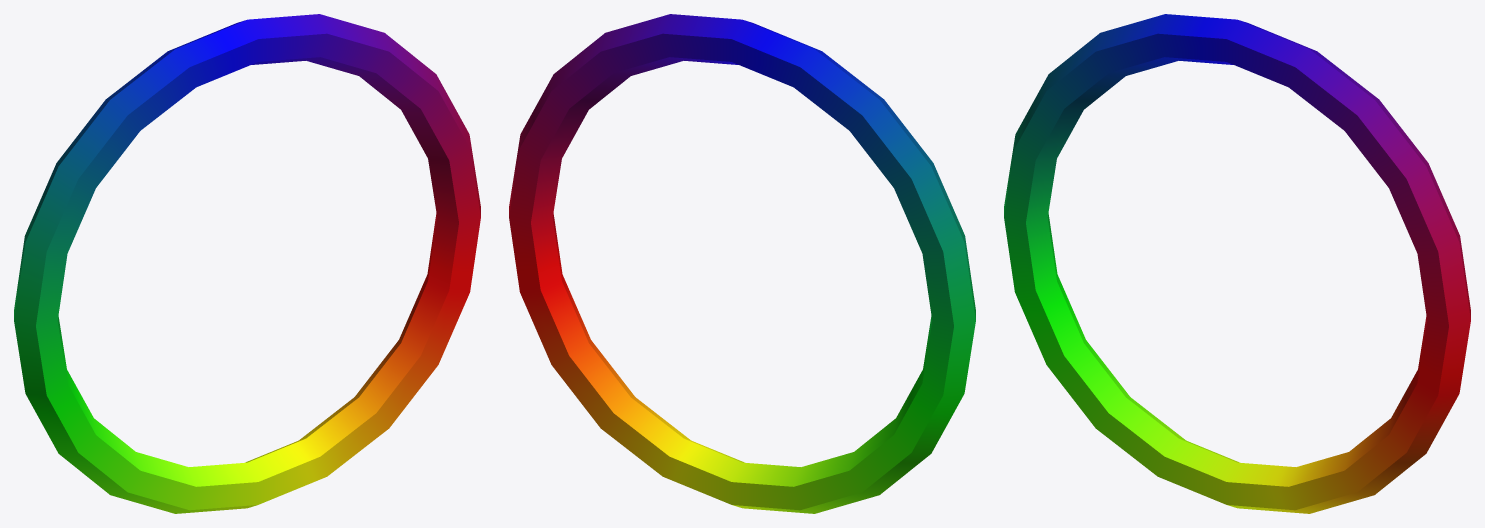
File: Ring.fbx
3 views of the same model, side by side, from view 1: azimuth 30°, elevation 25°; view 2: azimuth 150°, elevation 25°; view 3: azimuth 330°, elevation 25° (orthographic).
Parts seen in each view (by area): view 1: pTorus2; view 2: pTorus2; view 3: pTorus2.
Boxes of the visible parts, box(x1,y1,x2,y2) form: pTorus2: box(14, 14, 480, 513); pTorus2: box(509, 14, 975, 513); pTorus2: box(1004, 14, 1470, 513).
Bounding box in the file's own units: 48.93 × 48.93 × 3.97.
1 material, 1 textured.
